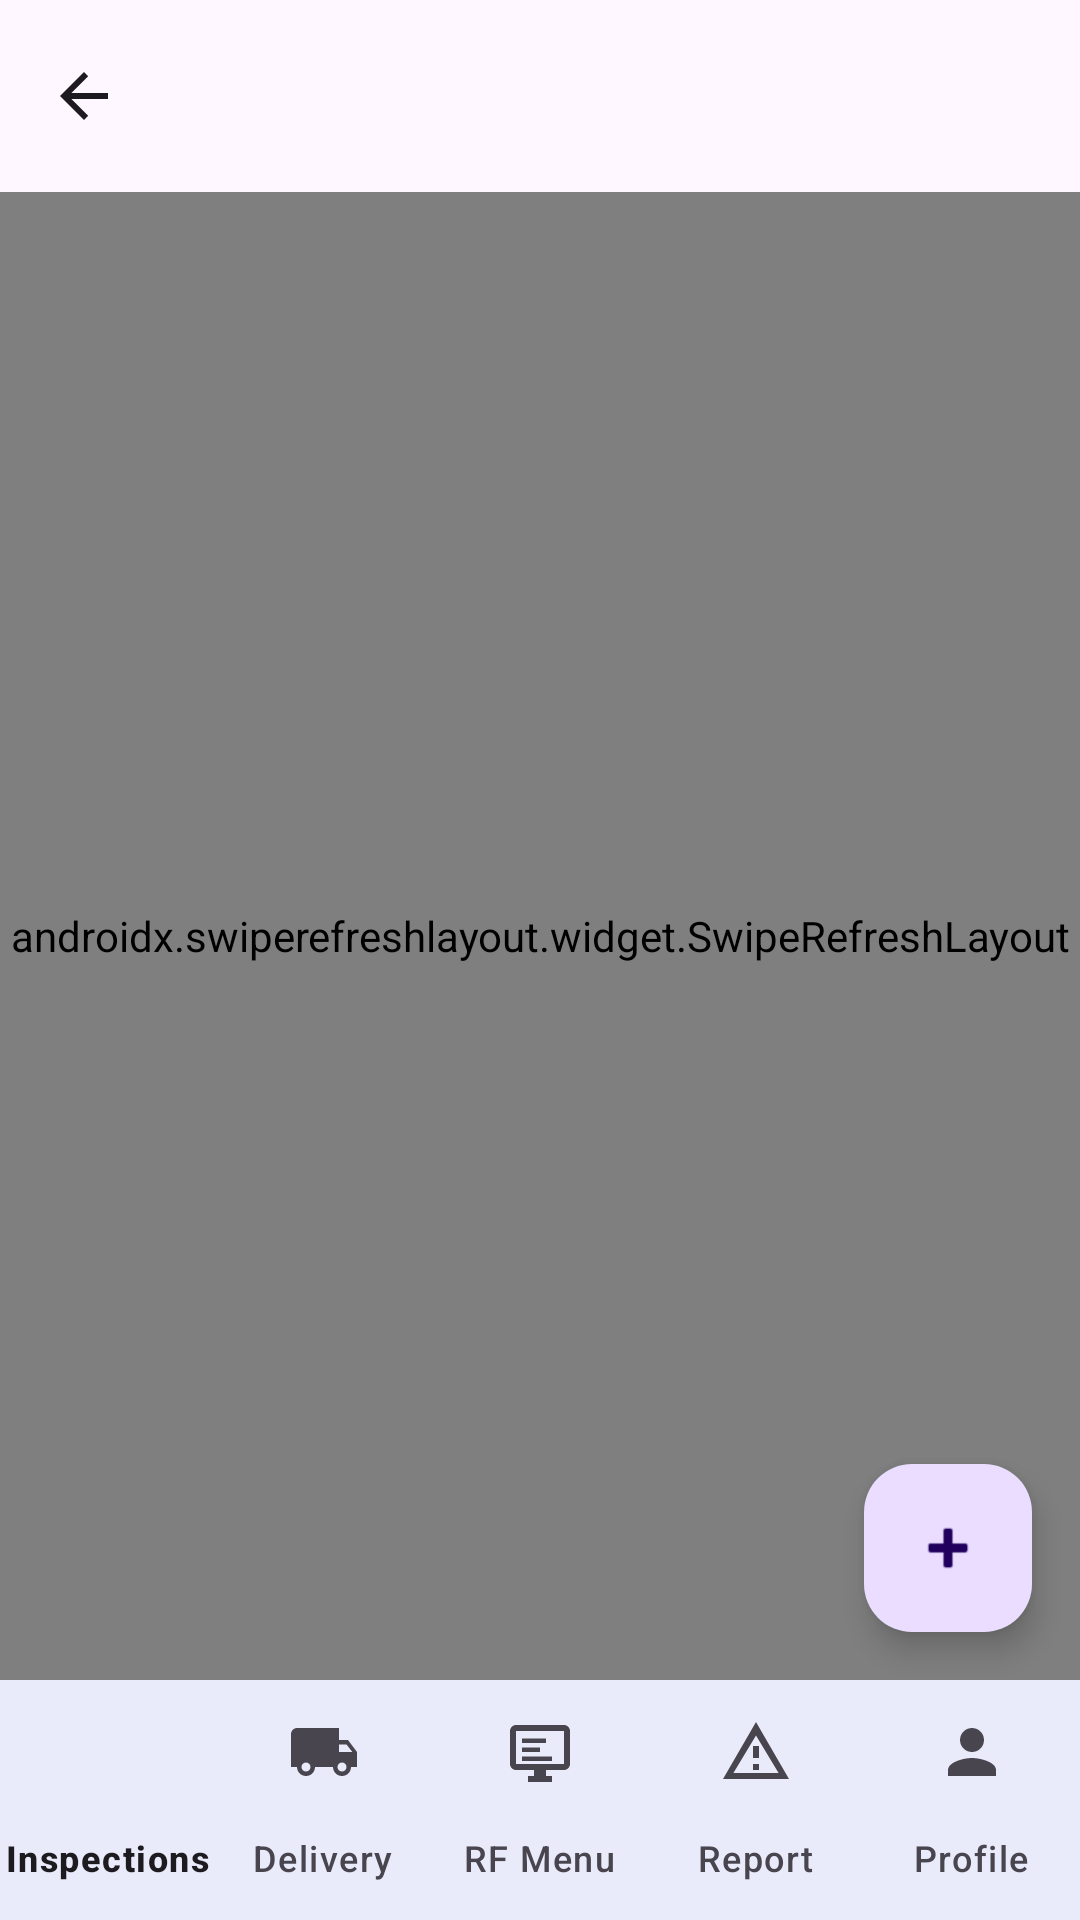

Named icons in this screenshot (1080 x 1920) and their centers, (x=x, y=y):
New Inspection: (x=948, y=1548)
